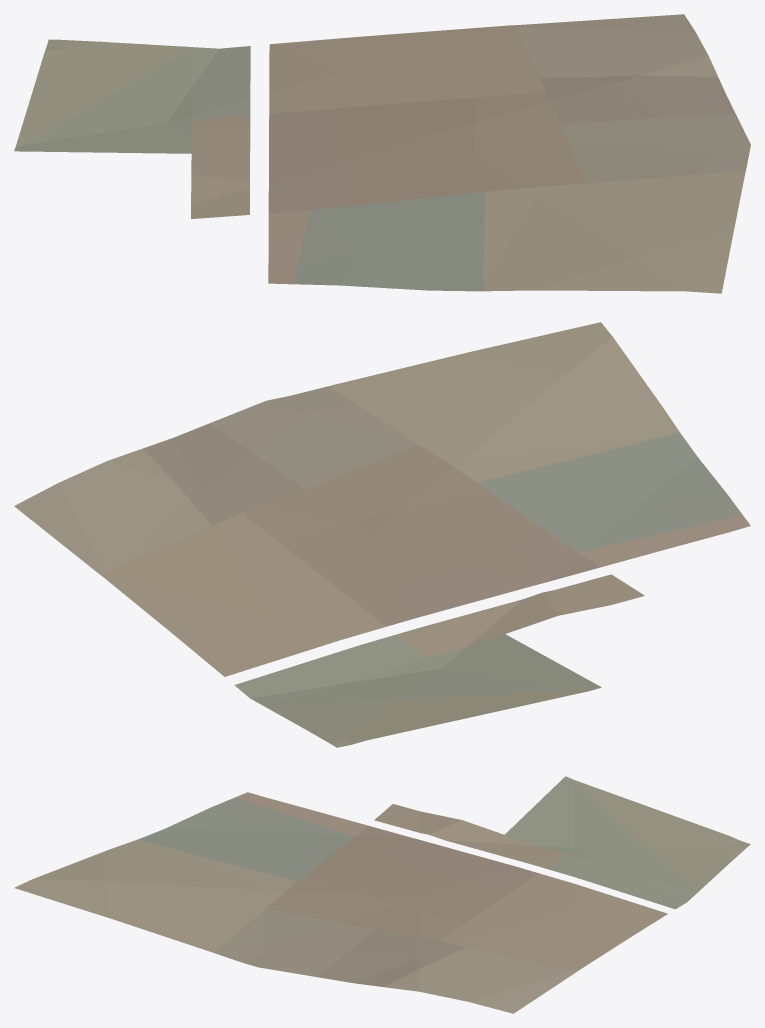
Rendered from farm_10_11_soil.glb.
3 views of the same model, one above another, from view 1: azimuth 30°, elevation 25°; view 2: azimuth 150°, elevation 25°; view 3: azimuth 270°, elevation 25° (orthographic). The views are drawn at different scales.
Visible parts, largest first — view 1: geometry_0; view 2: geometry_0; view 3: geometry_0.
Part boxes in pixels (x1,y1,x2,y2): geometry_0: (14,14,750,293); geometry_0: (14,322,750,747); geometry_0: (14,776,750,1013).
Size of the model in its own units: 296 by 23.63 by 380.
